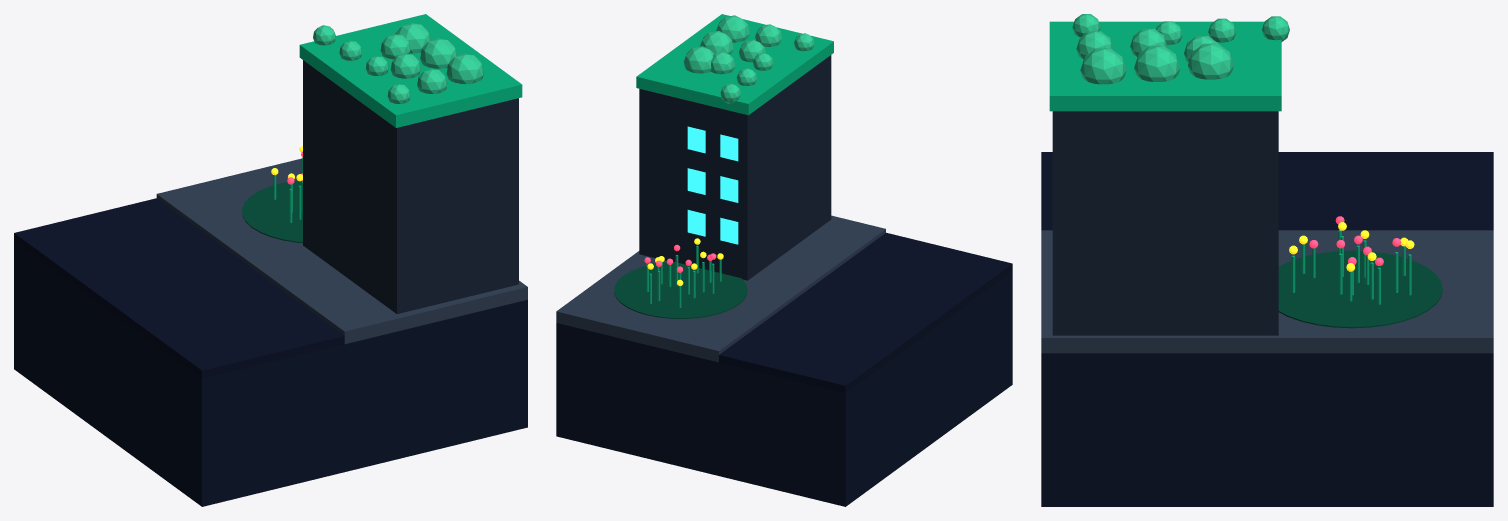
The model's file is diorama_santa_rita_verde.glb.
3 views of the same model, side by side, from view 1: azimuth 30°, elevation 25°; view 2: azimuth 150°, elevation 25°; view 3: azimuth 270°, elevation 25° (orthographic). The views are drawn at different scales.
Visible parts, largest first — view 1: Corte_Subsuelo_Base, Edificio_Residencial, Calzada_Asfaltica_Terrero, Vereda_Permeable_Drenante, Terraza_Verde_Cubierta, Cuenca_Jardin_Lluvia, Arbusto_Terraza_2, Arbusto_Terraza_5, Arbusto_Terraza_8, Arbusto_Terraza_4, Arbusto_Terraza_1, Arbusto_Terraza_7; view 2: Corte_Subsuelo_Base, Edificio_Residencial, Calzada_Asfaltica_Terrero, Vereda_Permeable_Drenante, Terraza_Verde_Cubierta, Cuenca_Jardin_Lluvia, Arbusto_Terraza_8, Arbusto_Terraza_2, Arbusto_Terraza_5; view 3: Corte_Subsuelo_Base, Edificio_Residencial, Vereda_Permeable_Drenante, Calzada_Asfaltica_Terrero, Terraza_Verde_Cubierta, Cuenca_Jardin_Lluvia, Arbusto_Terraza_8, Arbusto_Terraza_2, Arbusto_Terraza_5, Arbusto_Terraza_1, Arbusto_Terraza_4, Arbusto_Terraza_9 (+1 smaller).
Part boxes in pixels (x1=…): Corte_Subsuelo_Base: x1=14, y1=241, x2=527, y2=506; Edificio_Residencial: x1=303, y1=60, x2=518, y2=313; Calzada_Asfaltica_Terrero: x1=14, y1=198, x2=344, y2=378; Vereda_Permeable_Drenante: x1=156, y1=158, x2=527, y2=344; Terraza_Verde_Cubierta: x1=299, y1=14, x2=522, y2=127; Cuenca_Jardin_Lluvia: x1=242, y1=180, x2=302, y2=243; Arbusto_Terraza_2: x1=446, y1=53, x2=484, y2=84; Arbusto_Terraza_5: x1=420, y1=38, x2=457, y2=68; Arbusto_Terraza_8: x1=395, y1=22, x2=431, y2=53; Arbusto_Terraza_4: x1=390, y1=53, x2=420, y2=78; Arbusto_Terraza_1: x1=417, y1=68, x2=447, y2=93; Arbusto_Terraza_7: x1=380, y1=34, x2=410, y2=59; Corte_Subsuelo_Base: x1=556, y1=271, x2=1012, y2=506; Edificio_Residencial: x1=639, y1=55, x2=831, y2=280; Calzada_Asfaltica_Terrero: x1=719, y1=232, x2=1012, y2=393; Vereda_Permeable_Drenante: x1=556, y1=215, x2=885, y2=362; Terraza_Verde_Cubierta: x1=636, y1=14, x2=833, y2=115; Cuenca_Jardin_Lluvia: x1=614, y1=262, x2=747, y2=318; Arbusto_Terraza_8: x1=683, y1=46, x2=713, y2=73; Arbusto_Terraza_2: x1=716, y1=15, x2=749, y2=42; Arbusto_Terraza_5: x1=700, y1=30, x2=733, y2=54; Corte_Subsuelo_Base: x1=1041, y1=353, x2=1493, y2=506; Edificio_Residencial: x1=1052, y1=111, x2=1278, y2=335; Vereda_Permeable_Drenante: x1=1041, y1=230, x2=1493, y2=353; Calzada_Asfaltica_Terrero: x1=1041, y1=152, x2=1493, y2=230; Terraza_Verde_Cubierta: x1=1049, y1=21, x2=1281, y2=111; Cuenca_Jardin_Lluvia: x1=1278, y1=250, x2=1442, y2=328; Arbusto_Terraza_8: x1=1188, y1=43, x2=1233, y2=79; Arbusto_Terraza_2: x1=1080, y1=48, x2=1126, y2=84; Arbusto_Terraza_5: x1=1134, y1=46, x2=1180, y2=81; Arbusto_Terraza_1: x1=1076, y1=31, x2=1113, y2=59; Arbusto_Terraza_4: x1=1130, y1=28, x2=1167, y2=56; Arbusto_Terraza_9: x1=1262, y1=16, x2=1289, y2=41.
Bounding box in the file's own units: 8 × 8.51 × 8.
